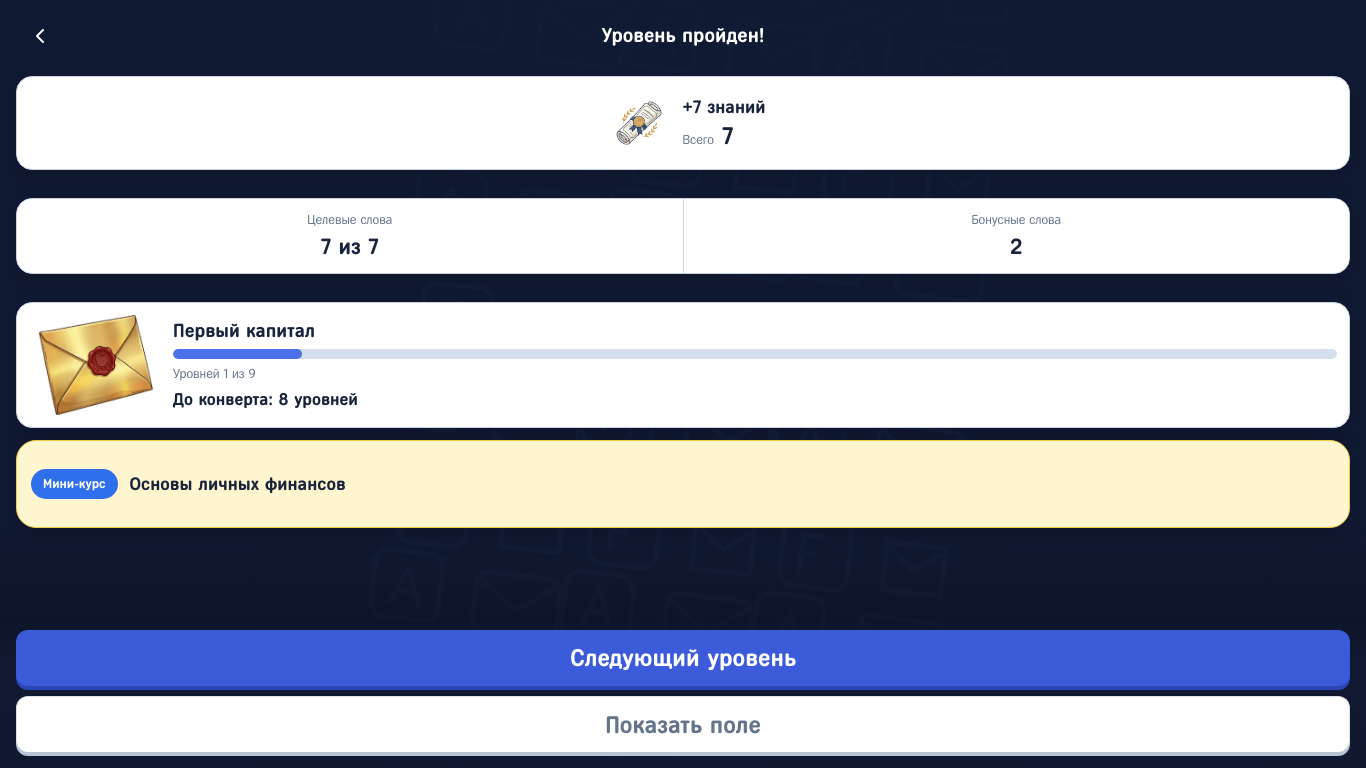
it: P4 Results state machine › после API-017 перечитывает API-002 и открывает авторитетный следующий уровень
Expected: the heading "Уровень пройден!" is shown, [602,25,764,46]
Click the button "Следующий уровень" at (683, 658), box [16,630,1350,686]
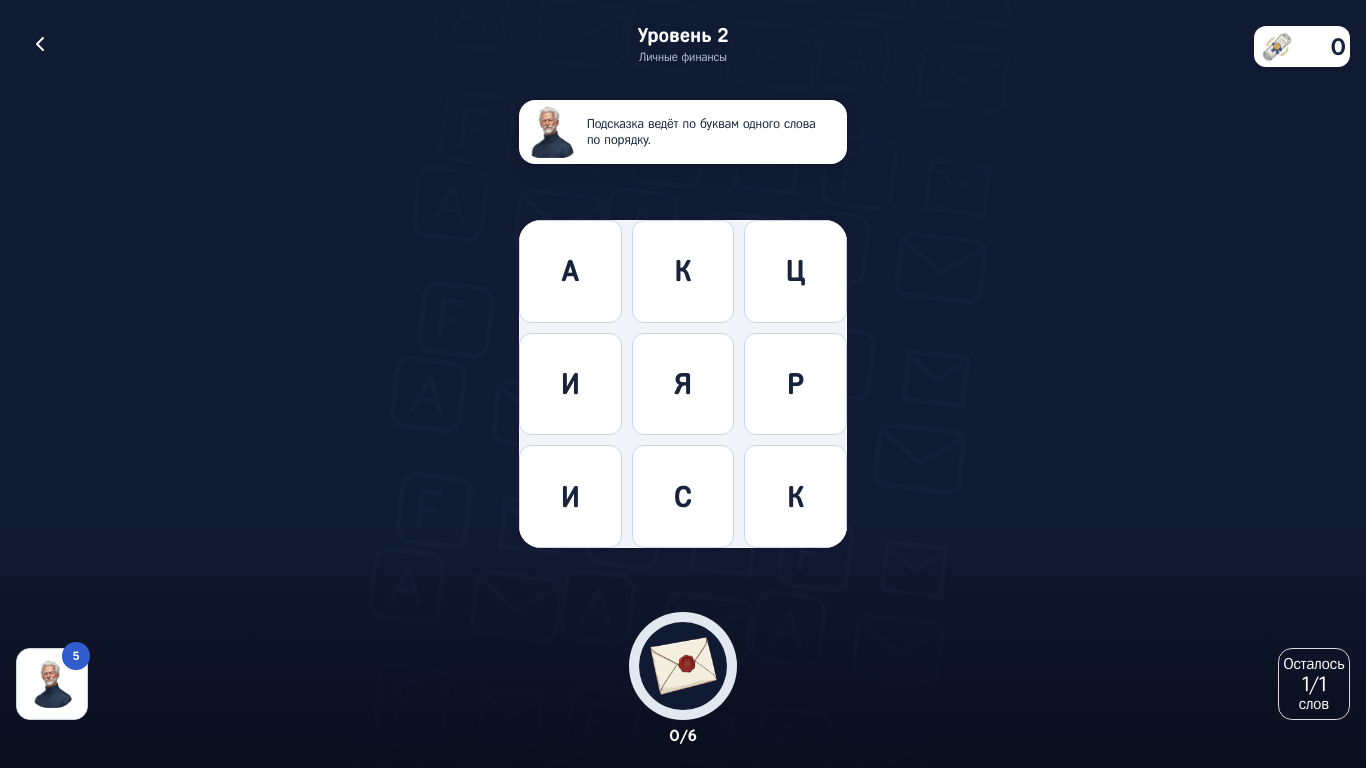
Expected: the element named "Игровой экран уровня 2" is shown
